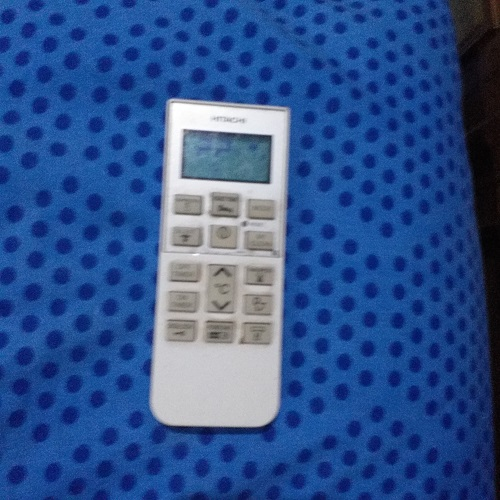remote: (147, 66, 294, 438)
